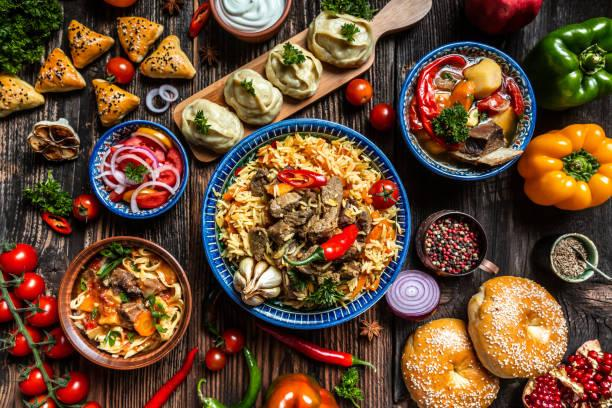Braised Crucian Carp: (200, 118, 405, 326), (176, 6, 381, 164), (398, 41, 536, 182), (57, 237, 189, 370), (87, 120, 186, 219)
